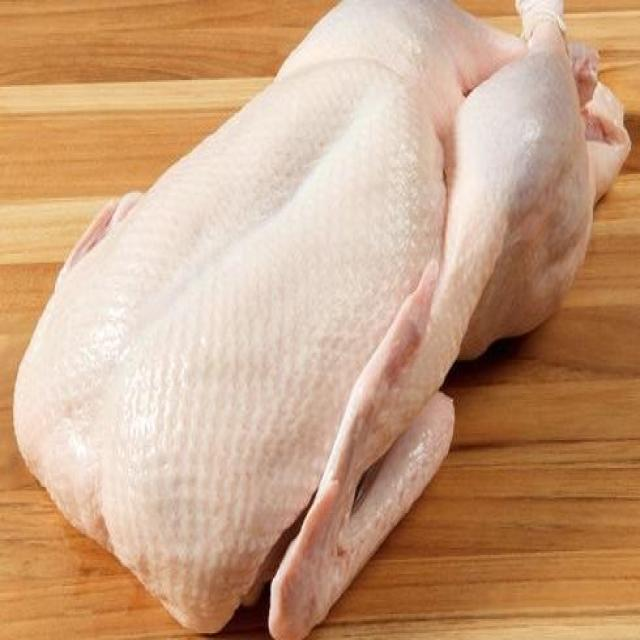duck: (14, 0, 630, 636)
